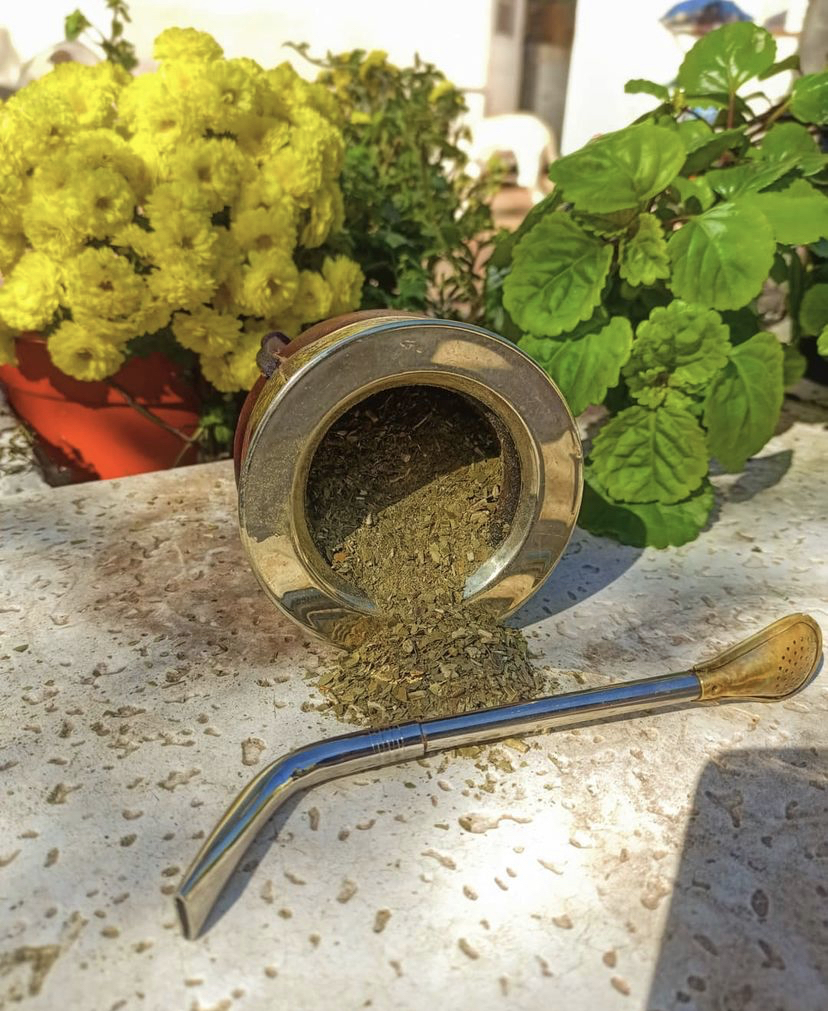calabaza: (204, 268, 577, 655)
mate: (203, 279, 586, 657)
